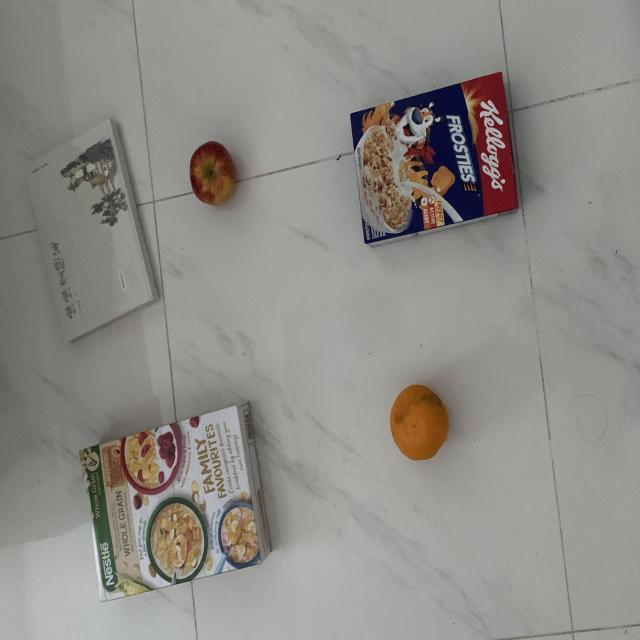Apple: (185, 138, 240, 210)
Book: (21, 116, 165, 345)
Cerealbox: (76, 400, 274, 604), (349, 71, 521, 247)
Orange: (389, 382, 450, 464)
